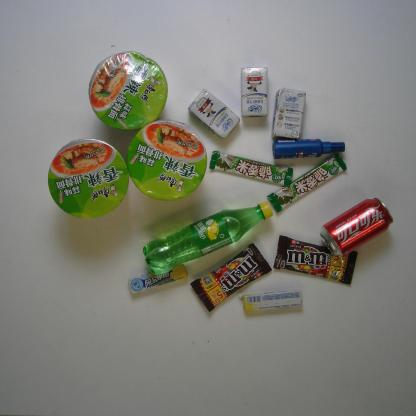Candy: (127, 264, 188, 295), (238, 289, 304, 313)
Chocolate: (188, 242, 273, 313), (266, 152, 348, 214), (272, 234, 358, 286), (208, 150, 294, 188)
Drink: (142, 201, 275, 277), (319, 196, 394, 258)
Instant Noodles: (126, 119, 209, 201), (47, 138, 130, 220), (87, 50, 168, 130)
Milk: (187, 88, 241, 140), (270, 87, 308, 141), (240, 65, 270, 118)
Personal Hygiene: (272, 137, 346, 161)
